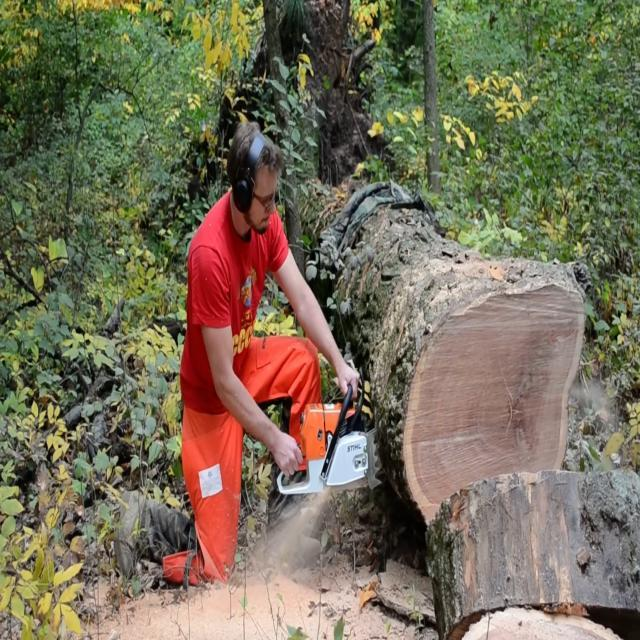Chainsaw: (256, 356, 398, 506)
